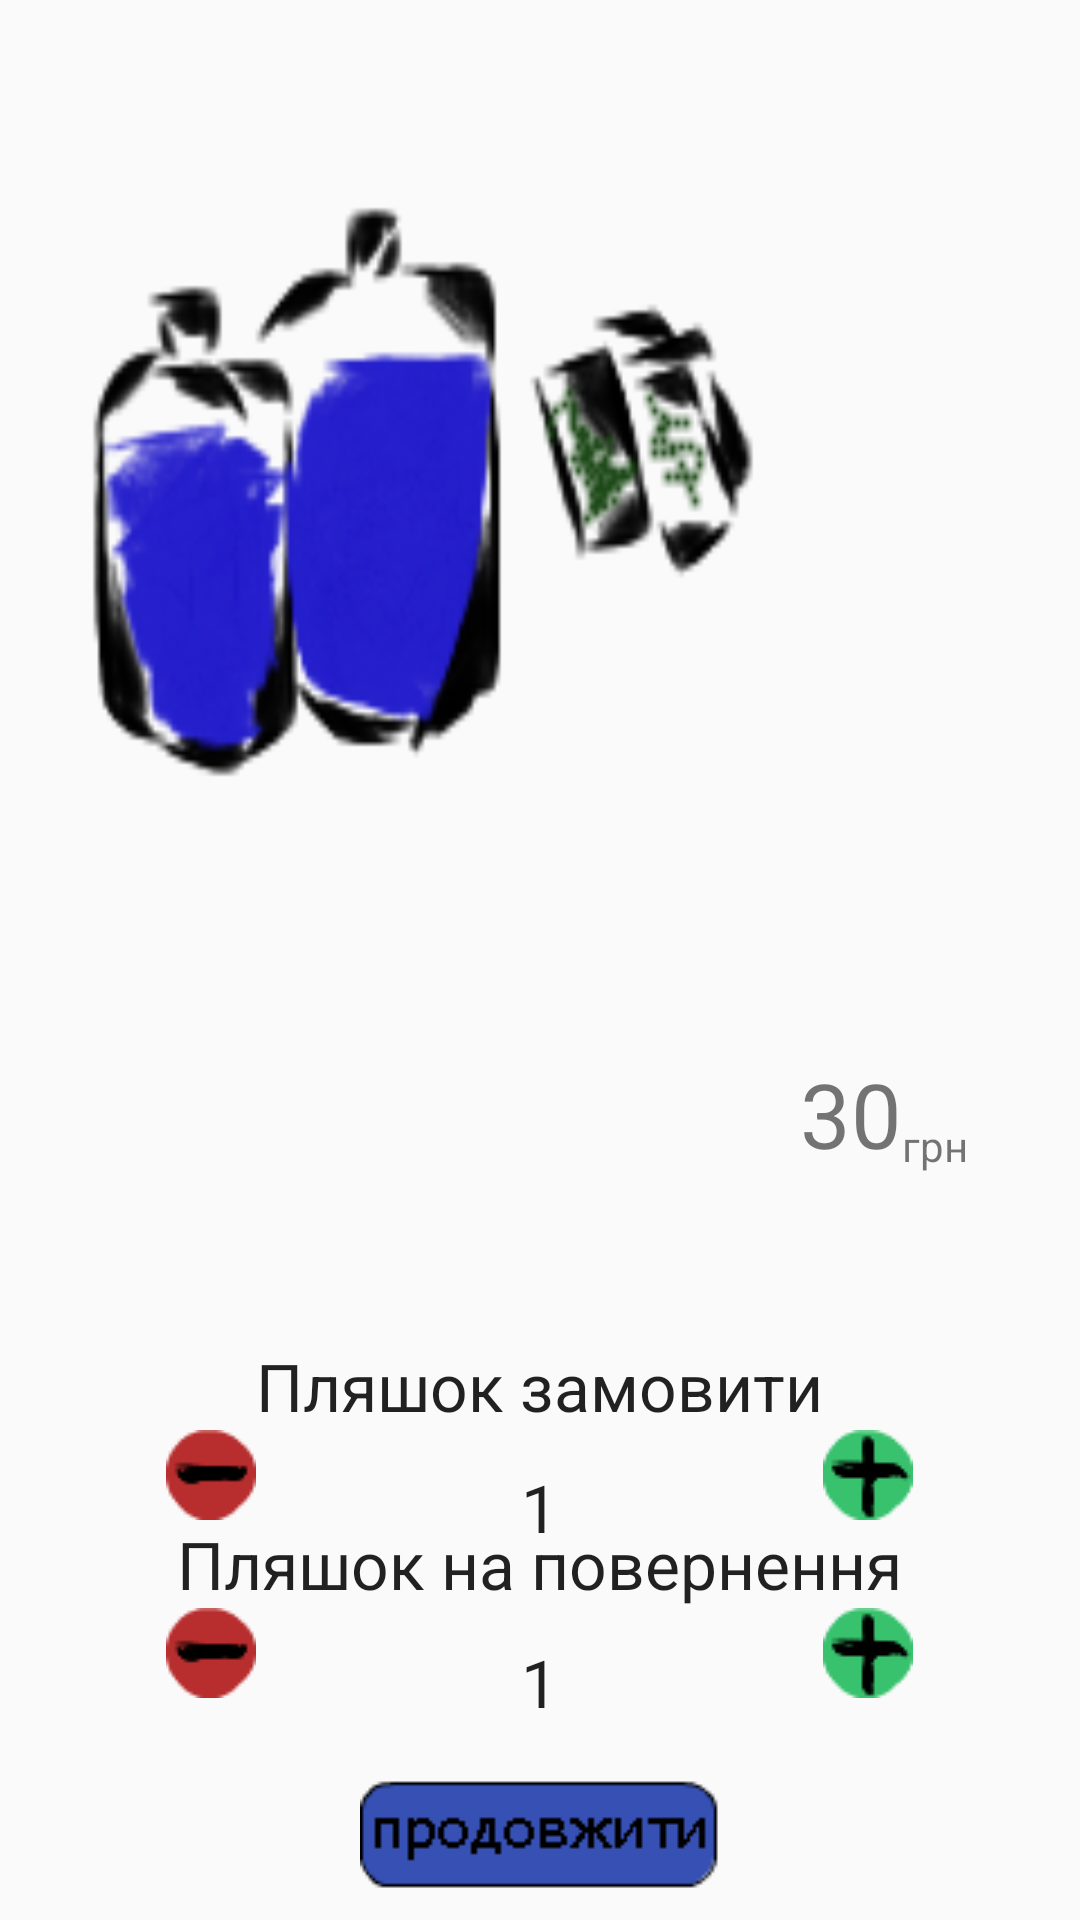

Where to tap for icons on this 1080px×1920px app screen, as (x,y):
minus: (211,1475), (211,1653)
plus: (868,1475), (868,1653)
